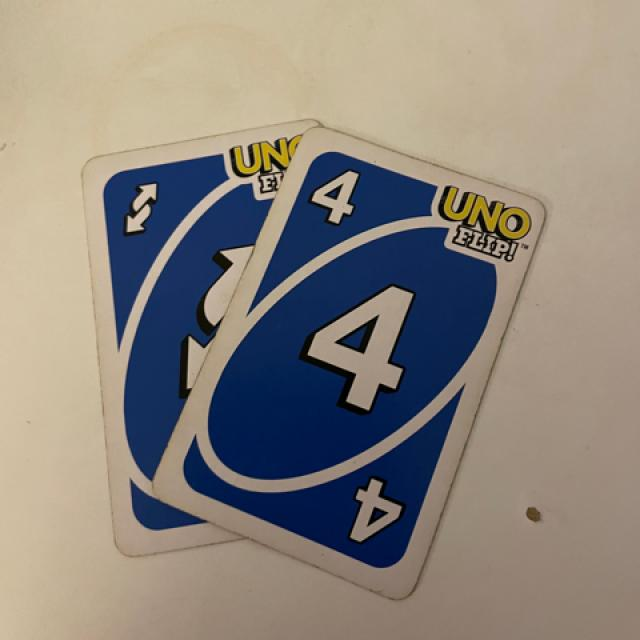lblue-4: (300, 153, 377, 243)
lbluerevers-20: (103, 166, 182, 250)
